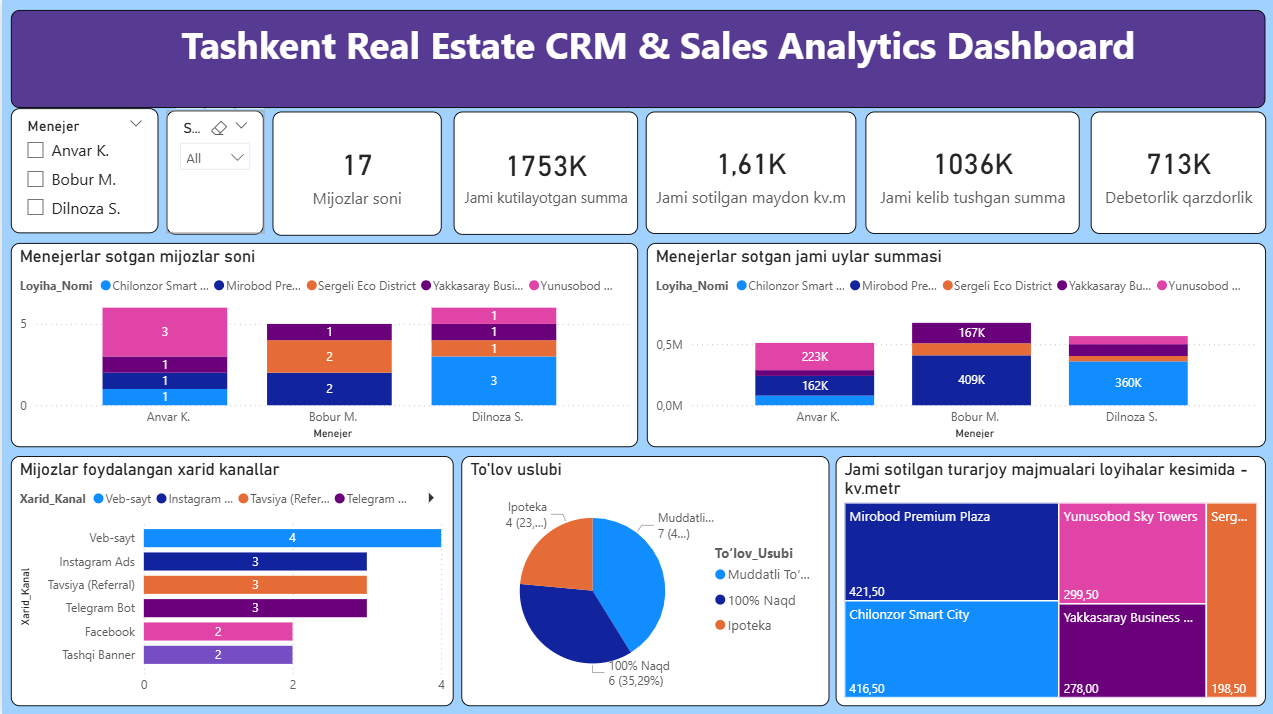

Layout of this report page (visuals, bound fields, positions):
{"tool":"powerbi","page":{"name":"Shartnomalar","canvas":[1280,720],"ordinal":0},"visuals":[{"type":"slicer","fields":{"Values":["Shartnomalar_Savdo.Shartnoma_Sanasi","Shartnomalar_Savdo.Shartnoma_Sanasi.Variation.Date Hierarchy.Day"]},"box":[0,0,231.1,235.6],"z":1000},{"type":"slicer","fields":{"Values":["Mijozlar_CRM.Menejer"]},"box":[244.4,0,197.8,234.4],"z":2000},{"type":"card","fields":{"Values":["Sum(Toʻlovlar_Tushumi.Kutilayotgan_Qoldiq_USD)"]},"box":[454.4,1.1,185.6,116],"z":3000},{"type":"card","fields":{"Values":["Sum(Toʻlovlar_Tushumi.Kelib_Tushgan_USD)"]},"box":[648.9,0,235.6,117.8],"z":4000},{"type":"card","fields":{"Values":["Sum(Shartnomalar_Savdo.Jami_Qiymati_USD)"]},"box":[454.4,126.7,185.6,108.9],"z":5000},{"type":"card","fields":{"Values":["Sum(Shartnomalar_Savdo.Kvadrat_Metr)"]},"box":[647.8,126.7,236.7,108.9],"z":6000},{"type":"pieChart","title":"To''lov uslubi","fields":{"Category":["Shartnomalar_Savdo.Toʻlov_Usubi"],"Y":["CountNonNull(Shartnomalar_Savdo.Toʻlov_Usubi)"],"Series":["Shartnomalar_Savdo.Toʻlov_Usubi"]},"box":[893.3,0,385.6,235.6],"z":7000},{"type":"columnChart","title":"Menejerlar sotgan mijozlar soni","fields":{"Category":["Mijozlar_CRM.Menejer"],"Y":["CountNonNull(Mijozlar_CRM.Mijoz_ID)"],"Series":["Shartnomalar_Savdo.Loyiha_Nomi"]},"box":[0,244.4,640,205.6],"z":8000},{"type":"columnChart","title":"Menejerlar sotgan jami uylar summasi","fields":{"Category":["Mijozlar_CRM.Menejer","Shartnomalar_Savdo.Loyiha_Nomi"],"Y":["Sum(Shartnomalar_Savdo.Jami_Qiymati_USD)"],"Series":["Shartnomalar_Savdo.Loyiha_Nomi"]},"box":[648.9,244.4,630,205.6],"z":9000},{"type":"barChart","title":"Mijozlar foydalangan xarid kanallar","fields":{"Category":["Mijozlar_CRM.Xarid_Kanal","Shartnomalar_Savdo.Loyiha_Nomi"],"Y":["CountNonNull(Mijozlar_CRM.Xarid_Kanal)"],"Series":["Mijozlar_CRM.Xarid_Kanal"]},"box":[0,458.9,640,252.2],"z":10000},{"type":"treemap","title":"Jami sotilgan turarjoy majmualari loyihalar kesimida - kv.metr","fields":{"Group":["Shartnomalar_Savdo.Loyiha_Nomi"],"Values":["Sum(Shartnomalar_Savdo.Kvadrat_Metr)"]},"box":[647.8,458.9,631.1,252.2],"z":11000}]}

Visuals, with their boxes in screenshot pixels (x1, y1, x2, y2), scaled from the page's 1280x720 canvas onto the 1273x714 screenshot:
slicer - Shartnomalar_Savdo.Shartnoma_Sanasi x Shartnomalar_Savdo.Shartnoma_Sanasi.Variation.Date Hierarchy.Day: 0,0,230,234
slicer - Mijozlar_CRM.Menejer: 243,0,440,232
card - Sum(Toʻlovlar_Tushumi.Kutilayotgan_Qoldiq_USD): 452,1,636,116
card - Sum(Toʻlovlar_Tushumi.Kelib_Tushgan_USD): 645,0,880,117
card - Sum(Shartnomalar_Savdo.Jami_Qiymati_USD): 452,126,636,234
card - Sum(Shartnomalar_Savdo.Kvadrat_Metr): 644,126,880,234
"To''lov uslubi" pieChart: 888,0,1272,234
"Menejerlar sotgan mijozlar soni" columnChart: 0,242,636,446
"Menejerlar sotgan jami uylar summasi" columnChart: 645,242,1272,446
"Mijozlar foydalangan xarid kanallar" barChart: 0,455,636,705
"Jami sotilgan turarjoy majmualari loyihalar kesimida - kv.metr" treemap: 644,455,1272,705
